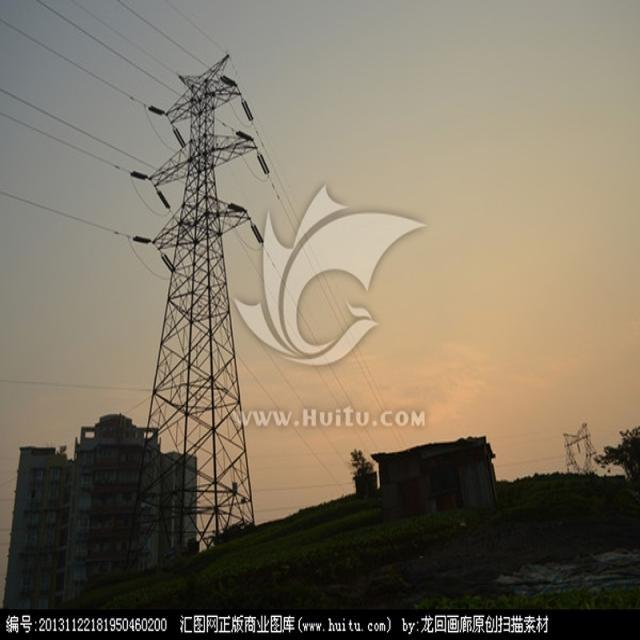non-critical vegetation: (139, 47, 265, 546)
